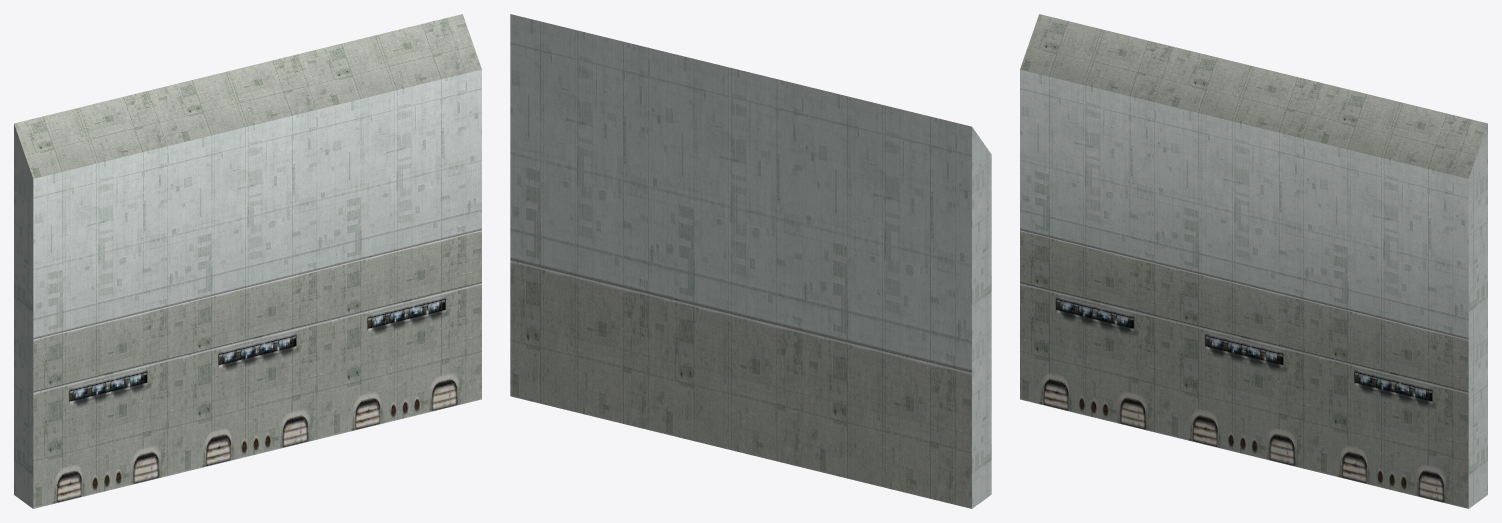
Rendered from bes2_bldg_16m_outerwall.glb.
The picture shows the model from 3 angles, left to right: view 1: azimuth 30°, elevation 25°; view 2: azimuth 150°, elevation 25°; view 3: azimuth 330°, elevation 25°; orthographic projection. The views are drawn at different scales.
Visible parts, largest first — view 1: mesh_part2, mesh_part1; view 2: mesh_part2; view 3: mesh_part2, mesh_part1.
Boxes of the visible parts, x1,y1,x2,y2 form: mesh_part2: (14, 14, 481, 508); mesh_part1: (33, 282, 481, 508); mesh_part2: (510, 14, 991, 508); mesh_part2: (1020, 14, 1487, 508); mesh_part1: (1020, 282, 1468, 508).
Bounding box in the file's own units: 16 × 12.66 × 1.18.
2 materials, 2 textured.
